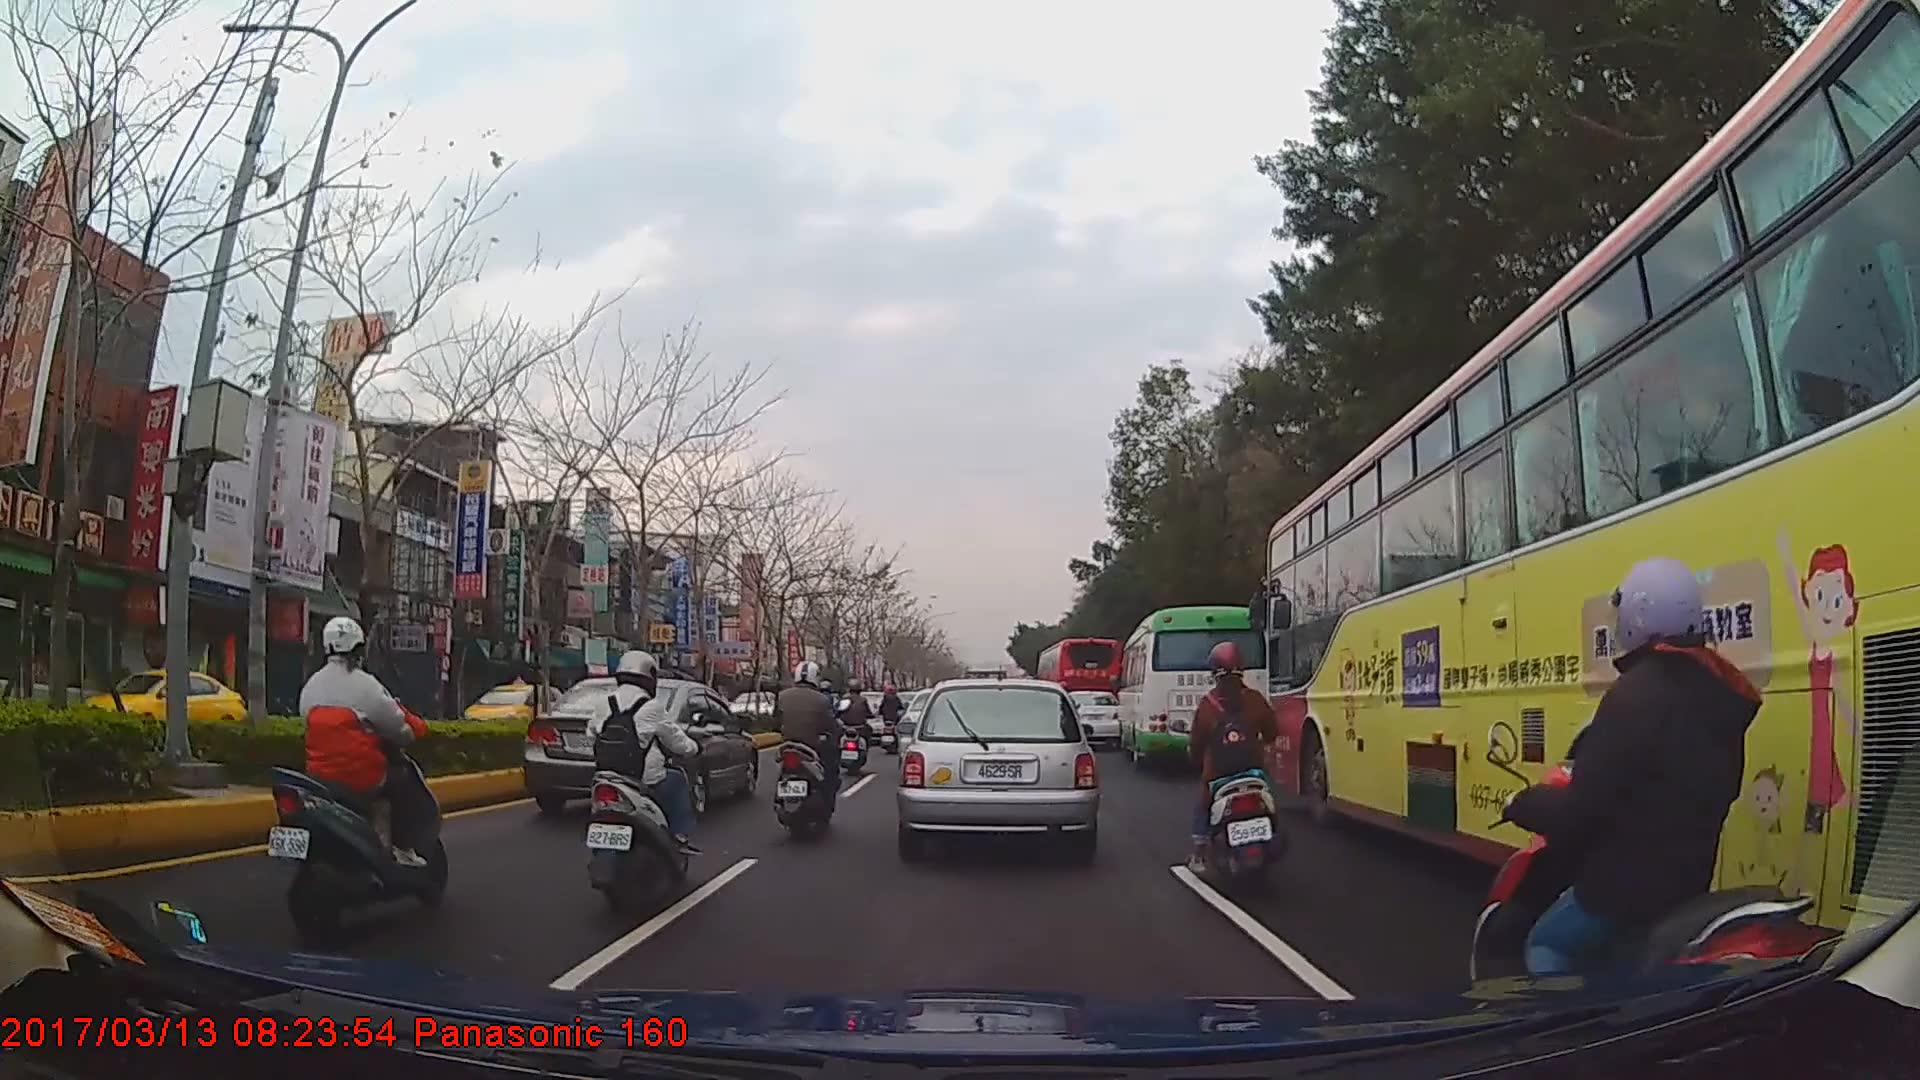rider: (1477, 557, 1841, 1041), (268, 611, 450, 940), (583, 644, 698, 924), (1174, 638, 1283, 892), (762, 659, 842, 840), (837, 677, 877, 773), (879, 682, 905, 754)
vehicle: (1262, 0, 1919, 964), (897, 675, 1099, 855), (519, 673, 758, 817), (1115, 605, 1265, 773), (68, 659, 249, 745), (1036, 634, 1121, 739), (455, 671, 570, 739), (1066, 689, 1125, 744)
